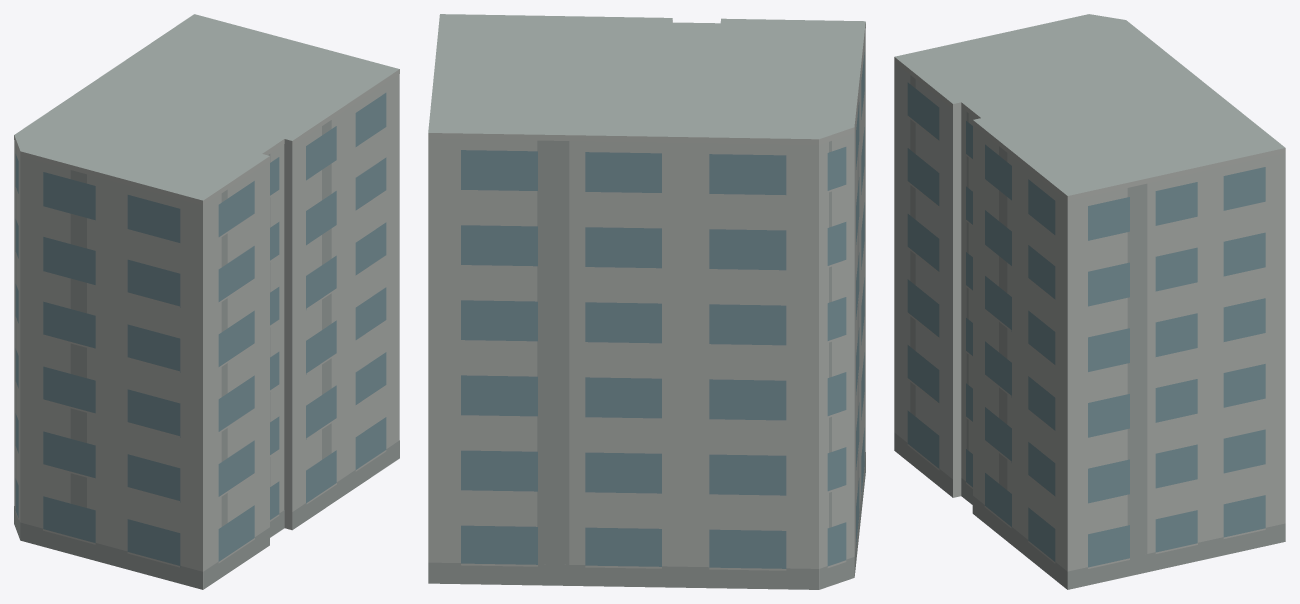
File: survey-upis-32832564.glb
3 views of the same model, side by side, from view 1: azimuth 30°, elevation 25°; view 2: azimuth 150°, elevation 25°; view 3: azimuth 270°, elevation 25° (orthographic). The views are drawn at different scales.
Visible parts, largest first — view 1: survey-upis-32832564.tmp; view 2: survey-upis-32832564.tmp; view 3: survey-upis-32832564.tmp.
Boxes of the visible parts, x1,y1,x2,y2 form: survey-upis-32832564.tmp: (14, 14, 399, 589); survey-upis-32832564.tmp: (428, 14, 865, 589); survey-upis-32832564.tmp: (894, 14, 1285, 589).
Size of the model in its own units: 18.55 by 18.7 by 16.85.
